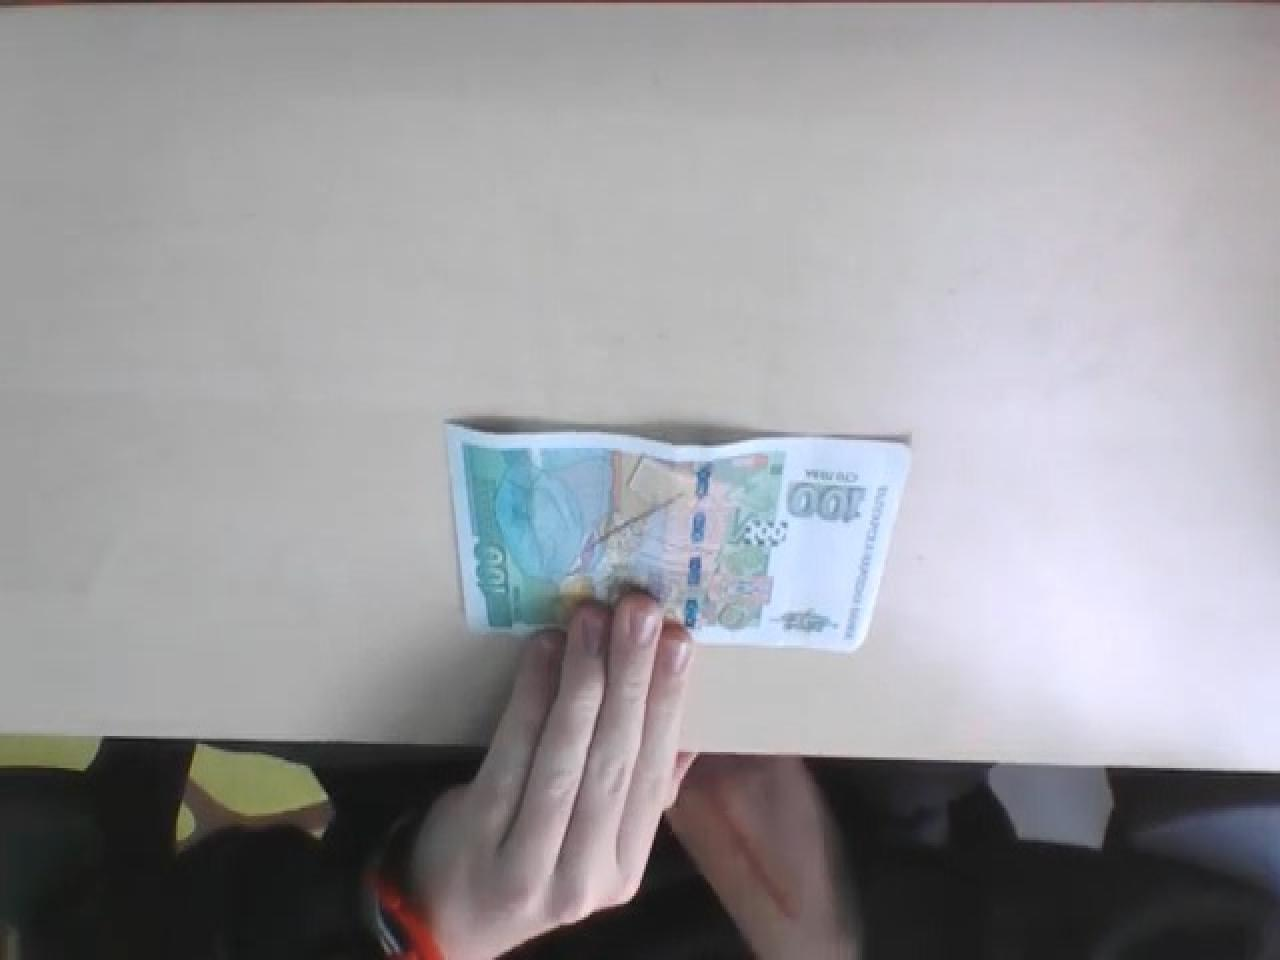100leva: (442, 416, 914, 650)
